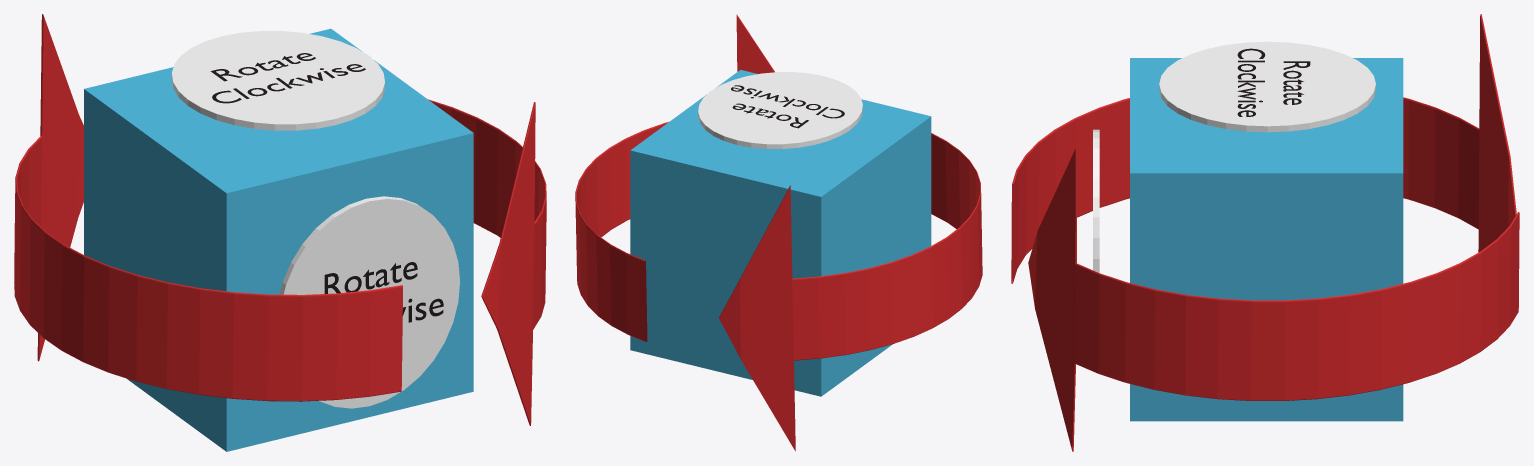
Rendered from RotateC.glb.
3 views of the same model, side by side, from view 1: azimuth 30°, elevation 25°; view 2: azimuth 150°, elevation 25°; view 3: azimuth 270°, elevation 25° (orthographic). The views are drawn at different scales.
Visible parts, largest first — view 1: Cube, Torus, Cylinder.002, Cylinder.001, Text, Text.001; view 2: Cube, Torus, Cylinder.001, Text; view 3: Torus, Cube, Cylinder.001, Text, Cylinder.002.
Part boxes in pixels (bbox=[...]): Cube: bbox=[84, 28, 473, 451]; Torus: bbox=[14, 14, 546, 425]; Cylinder.002: bbox=[279, 196, 459, 408]; Cylinder.001: bbox=[171, 31, 384, 130]; Text: bbox=[210, 53, 365, 103]; Text.001: bbox=[324, 262, 443, 322]; Cube: bbox=[630, 69, 931, 396]; Torus: bbox=[575, 14, 982, 451]; Cylinder.001: bbox=[698, 72, 862, 148]; Text: bbox=[731, 85, 844, 128]; Torus: bbox=[1011, 14, 1519, 451]; Cube: bbox=[1130, 58, 1403, 421]; Cylinder.001: bbox=[1159, 41, 1375, 132]; Text: bbox=[1237, 48, 1310, 116]; Cylinder.002: bbox=[1093, 129, 1099, 272].
Bounding box in the file's own units: 2.96 × 2.14 × 2.97.
